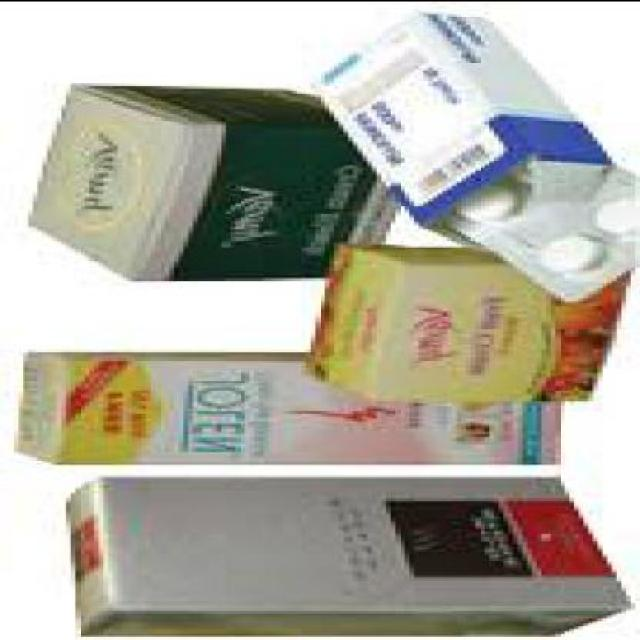CARDBOARD: (62, 471, 636, 632), (18, 79, 404, 276), (311, 8, 612, 223), (9, 348, 556, 461), (306, 240, 631, 397)
